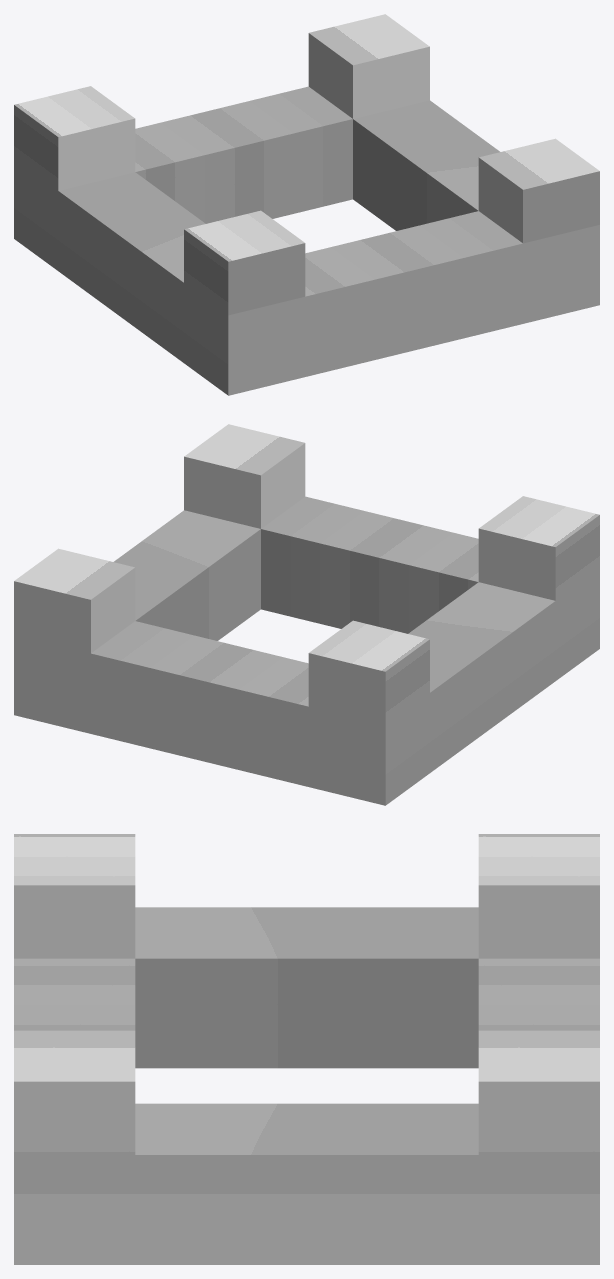
The model's file is conduit.obj.
The picture shows the model from 3 angles, top to bottom: view 1: azimuth 30°, elevation 25°; view 2: azimuth 150°, elevation 25°; view 3: azimuth 270°, elevation 25°; orthographic projection. The views are drawn at different scales.
Visible parts, largest first — view 1: FluidConduit_Cube.022; view 2: FluidConduit_Cube.022; view 3: FluidConduit_Cube.022.
Part boxes in pixels (x1,y1,x2,y2): FluidConduit_Cube.022: (14,14,599,395); FluidConduit_Cube.022: (14,424,599,805); FluidConduit_Cube.022: (14,834,599,1264).
Bounding box in the file's own units: 0.3625 × 0.125 × 0.3625.
